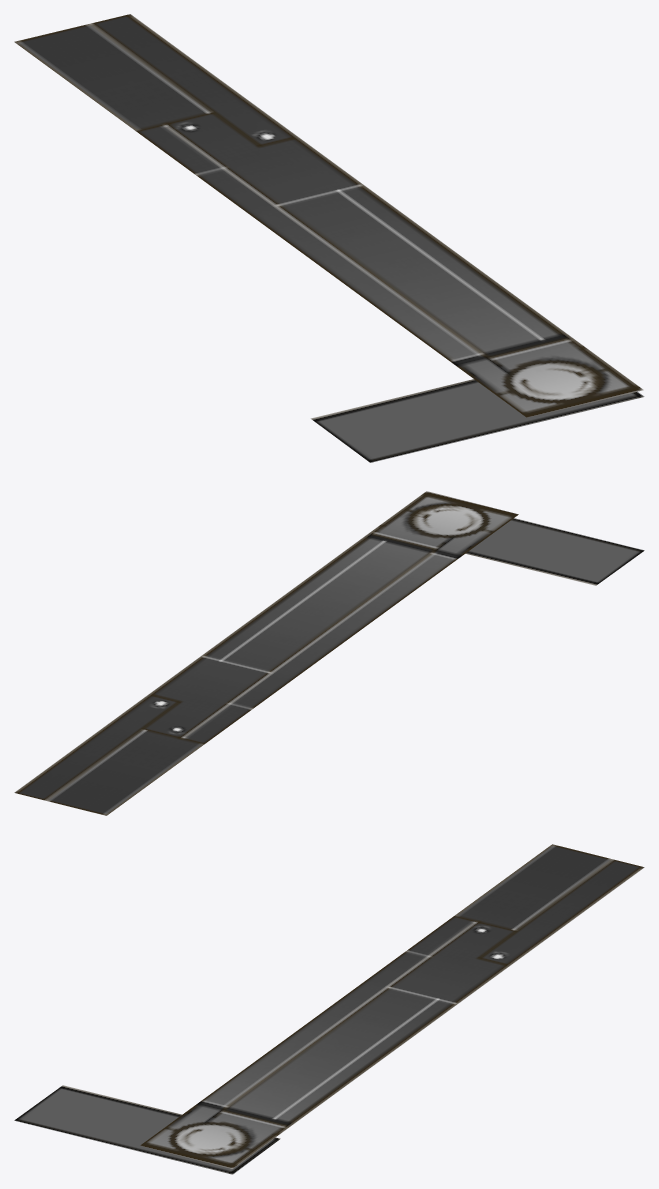
File: bridge.FBX
3 renders of one model, top to bottom at view 1: azimuth 30°, elevation 25°; view 2: azimuth 150°, elevation 25°; view 3: azimuth 330°, elevation 25°, orthographic. The views are drawn at different scales.
Visible parts, largest first — view 1: Plane001, Plane003; view 2: Plane001, Plane003; view 3: Plane001, Plane003.
Boxes of the visible parts, box(x1,y1,x2,y2) form: Plane001: box(14, 14, 643, 417); Plane003: box(310, 379, 644, 462); Plane001: box(14, 491, 518, 815); Plane003: box(465, 518, 644, 585); Plane001: box(140, 844, 644, 1168); Plane003: box(14, 1085, 280, 1174).
Bounding box in the file's own units: 31.9 × 0.7593 × 104.
2 materials, 2 textured.
